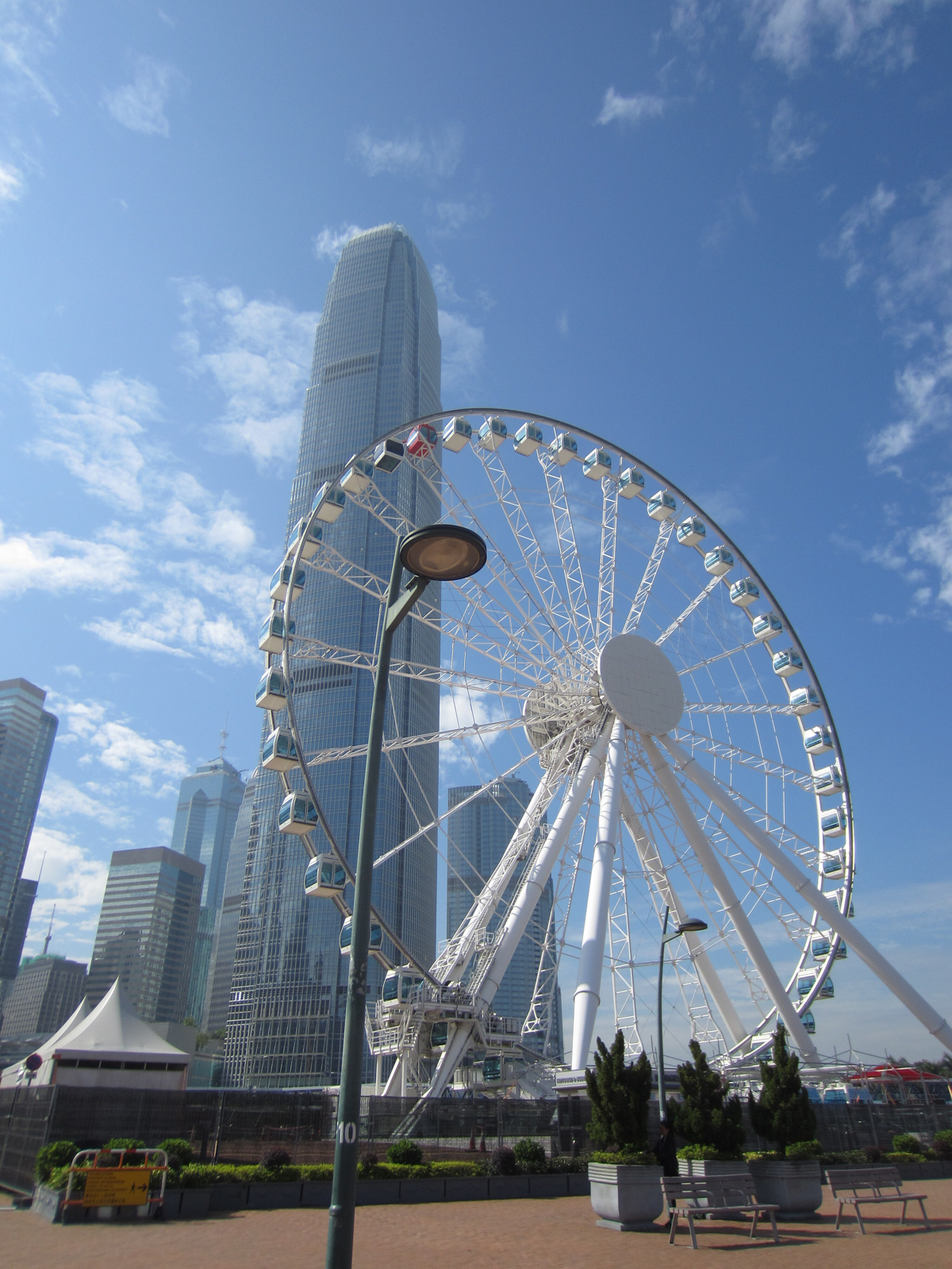fachada: (258, 210, 464, 1091), (163, 734, 246, 1035), (0, 638, 60, 960), (103, 833, 198, 1027)
poste: (325, 504, 484, 1269)
